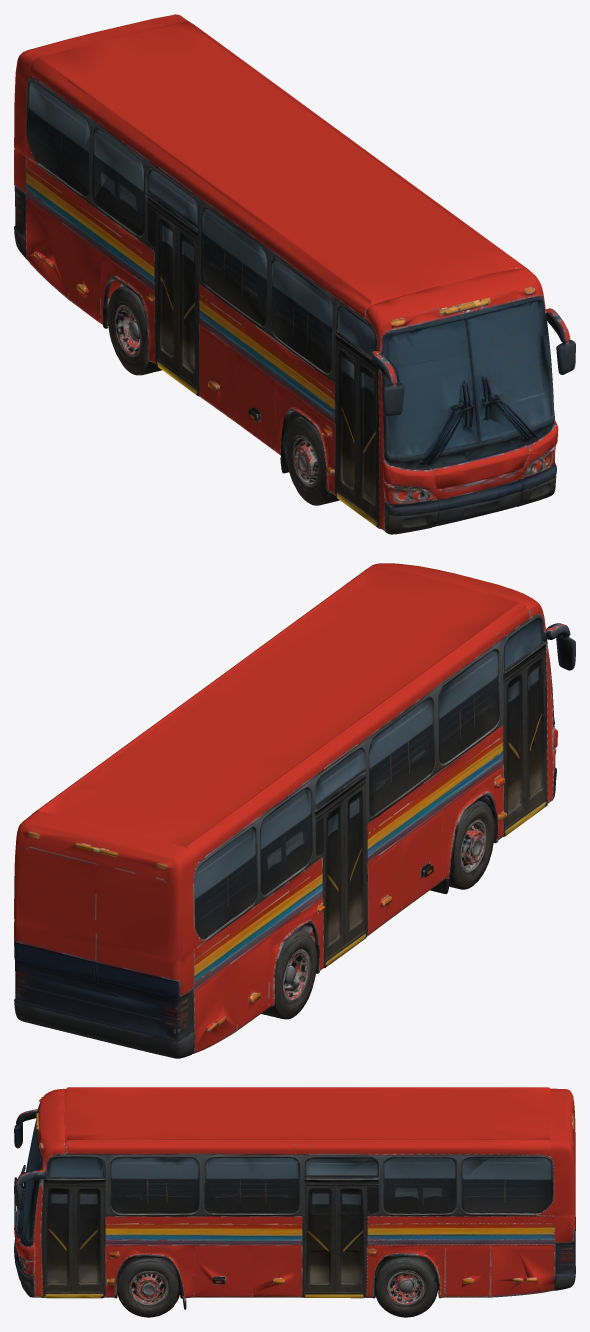
File: car-bus-red-v3.glb
3 views of the same model, one above another, from view 1: azimuth 30°, elevation 25°; view 2: azimuth 150°, elevation 25°; view 3: azimuth 270°, elevation 25° (orthographic). The views are drawn at different scales.
Parts seen in each view (by area): view 1: node_0; view 2: node_0; view 3: node_0.
Boxes of the visible parts, box(x1,y1,x2,y2) form: node_0: box(14, 14, 575, 534); node_0: box(14, 563, 575, 1058); node_0: box(14, 1087, 575, 1317).
Bounding box in the file's own units: 0.324 × 0.3901 × 1.13.
Materials: 1 (1 with a texture image).
